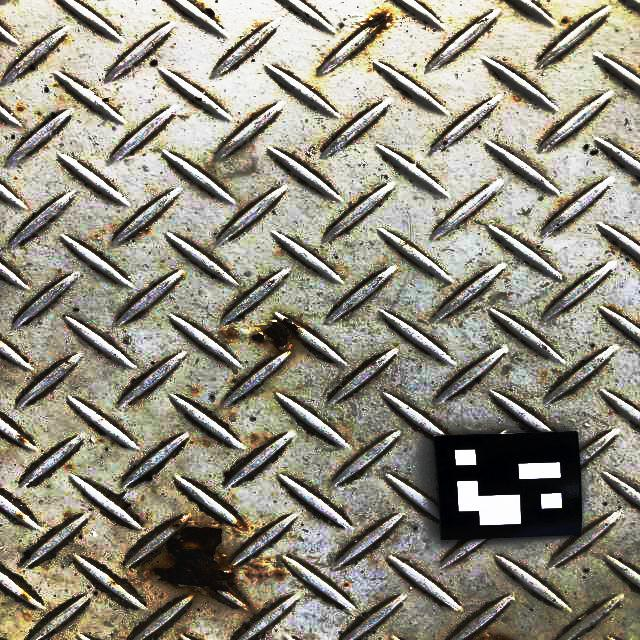Corrosion: (142, 520, 251, 608), (249, 317, 306, 358), (360, 13, 392, 33), (471, 630, 515, 640), (244, 571, 269, 579), (221, 327, 237, 339), (245, 563, 267, 570), (273, 571, 285, 579), (15, 513, 24, 521), (20, 593, 28, 601), (18, 436, 24, 444)
